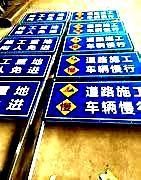sign: (53, 80, 141, 121), (60, 53, 141, 79), (1, 80, 35, 115), (1, 53, 48, 76), (1, 36, 55, 53), (66, 36, 131, 50), (11, 23, 63, 35), (70, 23, 124, 34), (20, 11, 67, 22), (71, 11, 119, 21)
